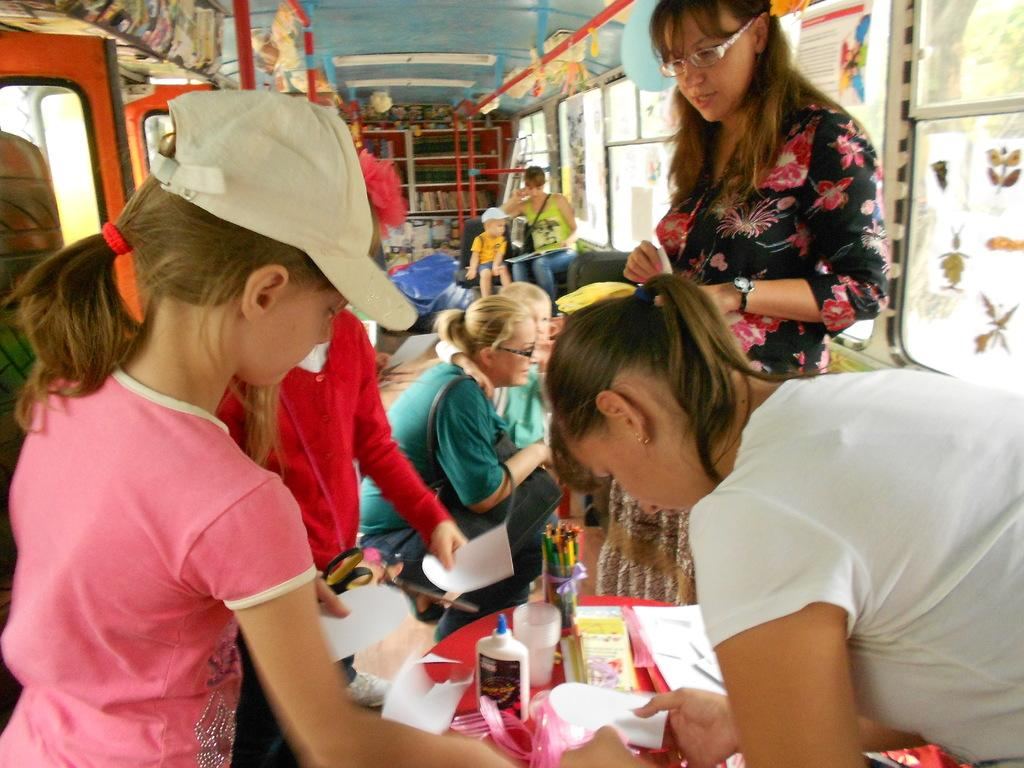Hat: (146, 88, 416, 332)
